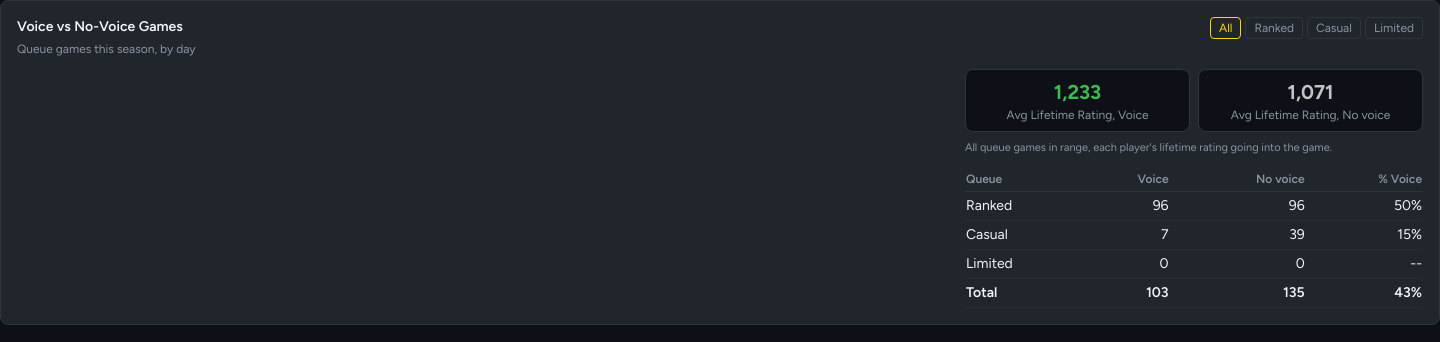
Test case: VoiceStatsCard › shows average lifetime ELO for voice and no-voice games, following the queue filter
Expected: the cell "Ranked" is shown, [965,192,1077,221]
Expected: the text "1,233" is shown, [1054,80,1101,104]
Click the button "Ranked" at (1274, 28), box [1246,17,1303,39]
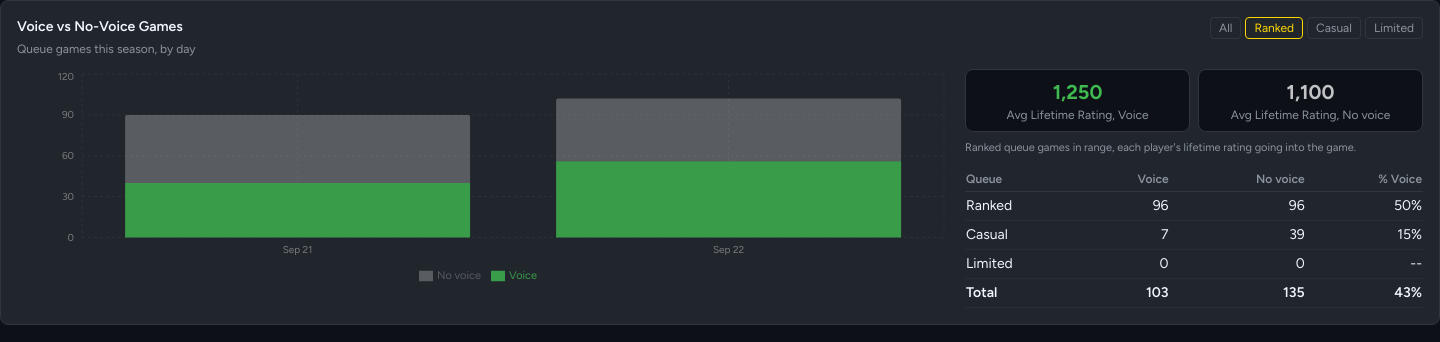
Result: the text "1,250" is shown at [1053,80,1102,104]
Result: the text "1,100" is shown at [1286,80,1334,104]
